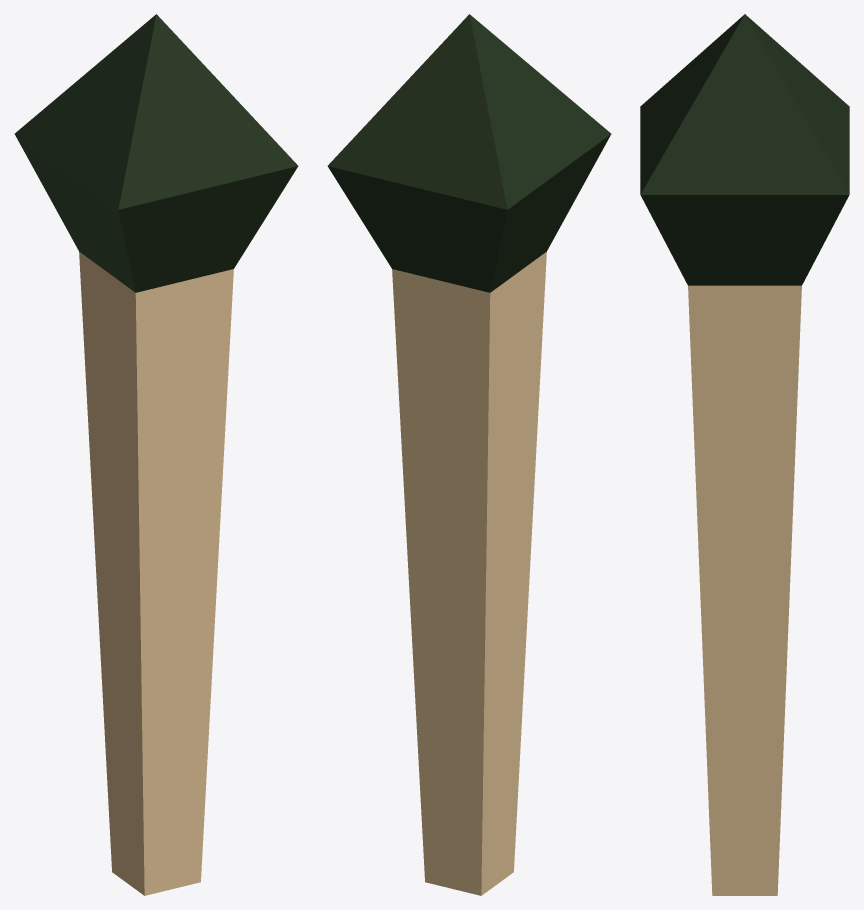
Rendered from Tourch.fbx.
3 views of the same model, side by side, from view 1: azimuth 30°, elevation 25°; view 2: azimuth 150°, elevation 25°; view 3: azimuth 270°, elevation 25° (orthographic).
Parts seen in each view (by area): view 1: pCube1; view 2: pCube1; view 3: pCube1.
Boxes of the visible parts, x1,y1,x2,y2 form: pCube1: (14,14,298,895); pCube1: (327,14,611,895); pCube1: (640,14,849,895).
Bounding box in the file's own units: 0.6506 × 2.98 × 0.6506.
Materials: 1 (1 with a texture image).
